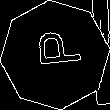P_W: (28, 34, 82, 76)
